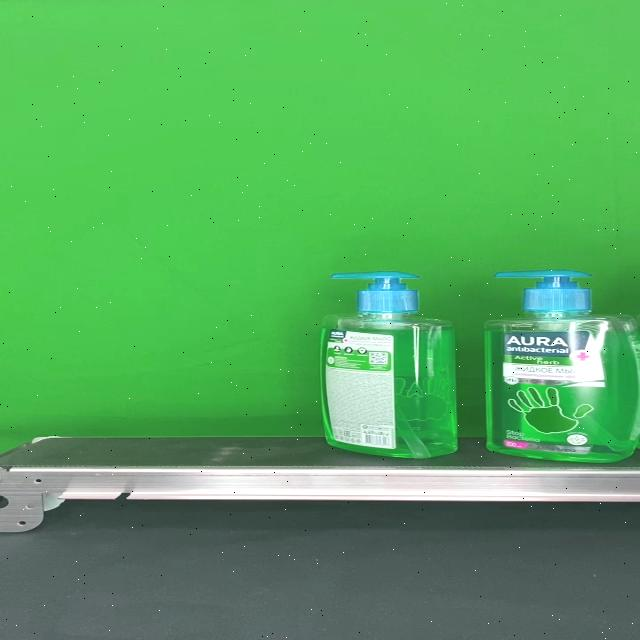Bottle: (484, 270, 640, 463), (320, 271, 458, 458)
Cap: (494, 270, 592, 312), (329, 271, 420, 313)
